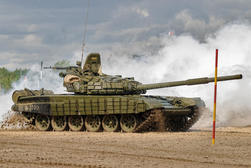t72: (12, 62, 242, 131)
